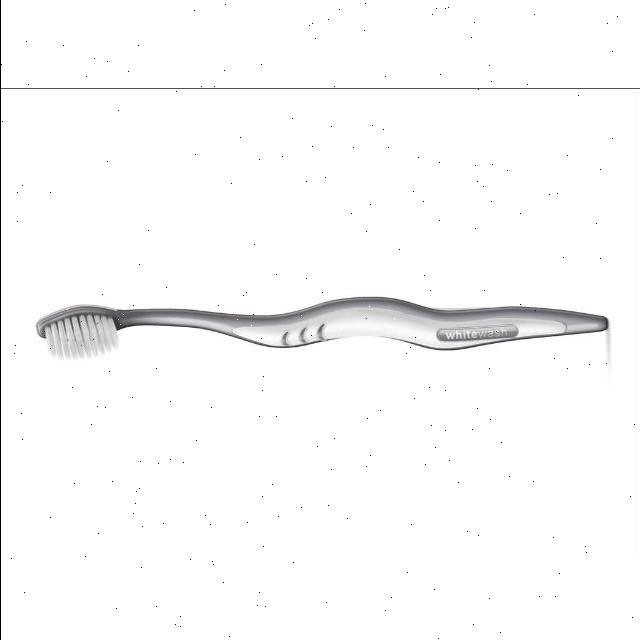toothbrush: (9, 244, 630, 408)
